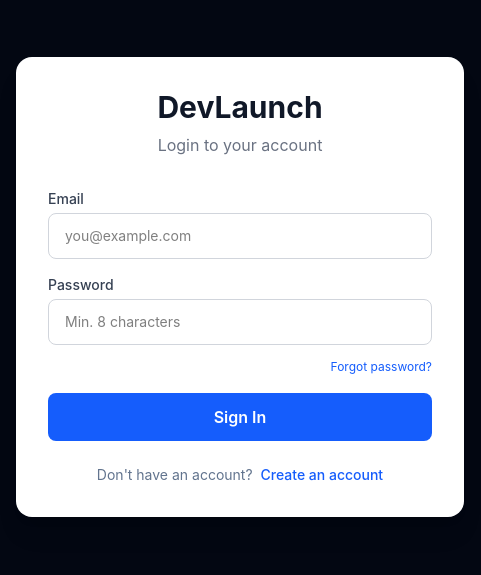
Test: LoginPage › offers a resend action when the email is not verified
This screenshot has width=481, height=575.
Type "dev@example.com" into the field with placeholder "you@example.com" at (240, 236), box 48,213 -> 432,259
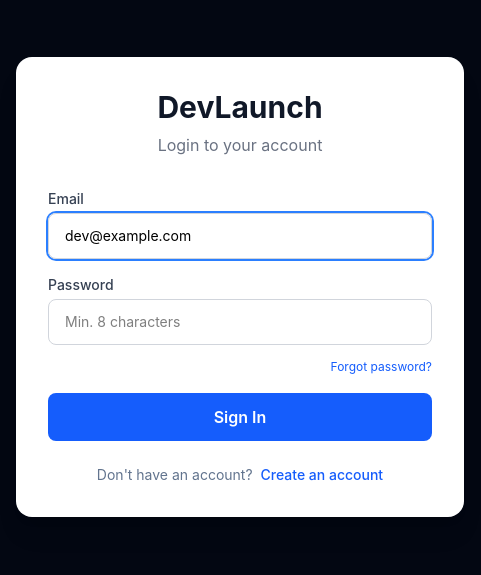
Type "secret123" into the password field with placeholder "Min. 8 characters" at (240, 322), box 48,299 -> 432,345
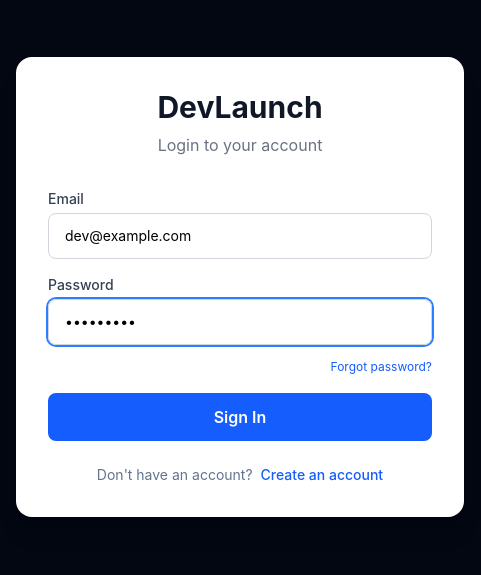
Click the button "Sign In" at (240, 417), box 48,393 -> 432,441
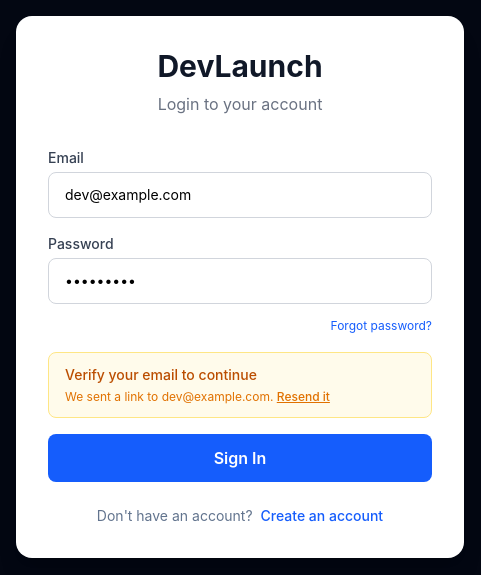
expect the text "Verify your email to continue" is shown: met, box 65,366 -> 257,383
Click the button "Resend it" at (303, 397), box 277,389 -> 330,405
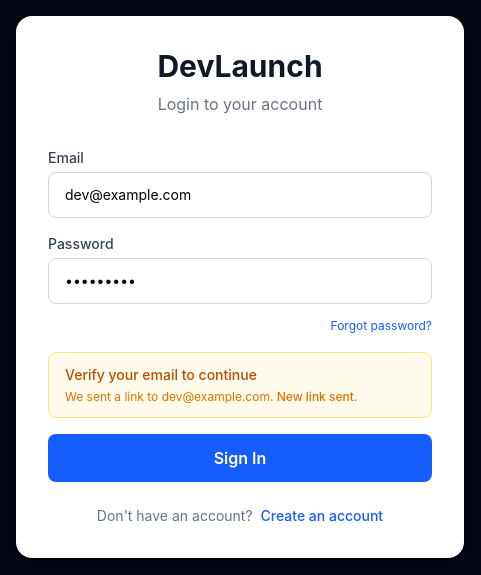
expect the text "New link sent." is shown: met, box 277,389 -> 358,404
